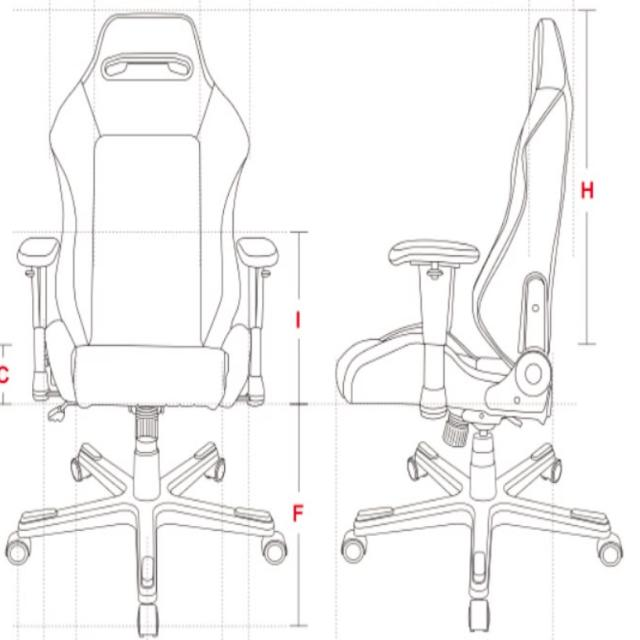5_Star_Base: (1, 427, 297, 639), (334, 430, 630, 639)
Armrest: (384, 231, 484, 426), (229, 230, 286, 412), (12, 230, 63, 406)
Backrest: (44, 65, 256, 354), (460, 82, 581, 376)
Caster_Wheel: (332, 523, 376, 572), (254, 523, 297, 572), (587, 525, 630, 572), (457, 593, 500, 637), (530, 448, 569, 495), (128, 597, 167, 640), (3, 526, 37, 574), (62, 446, 101, 487), (196, 450, 234, 490), (400, 448, 435, 489)
Control_Mechanism: (41, 395, 83, 430)
Headrest: (72, 8, 225, 144), (523, 8, 575, 100)
Seat: (330, 310, 561, 433), (34, 308, 256, 415)
